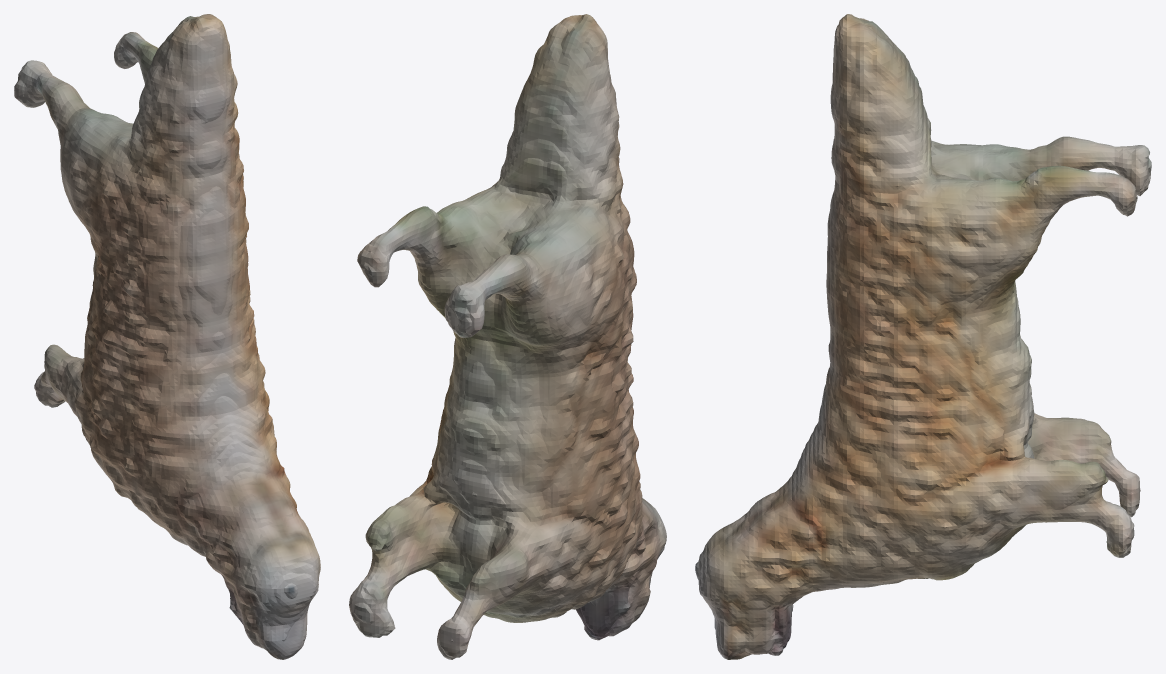
3 views of the same model, side by side, from view 1: azimuth 30°, elevation 25°; view 2: azimuth 150°, elevation 25°; view 3: azimuth 270°, elevation 25° (orthographic). The views are drawn at different scales.
Visible parts, largest first — view 1: world; view 2: world; view 3: world.
Boxes of the visible parts, box(x1,y1,x2,y2) form: world: box(14, 14, 320, 659); world: box(349, 14, 666, 659); world: box(695, 14, 1151, 659).
Size of the model in its own units: 0.3172 by 1.12 by 0.7333.
